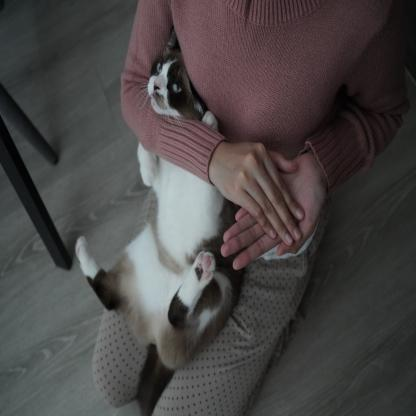Love: (206, 126, 331, 272)
